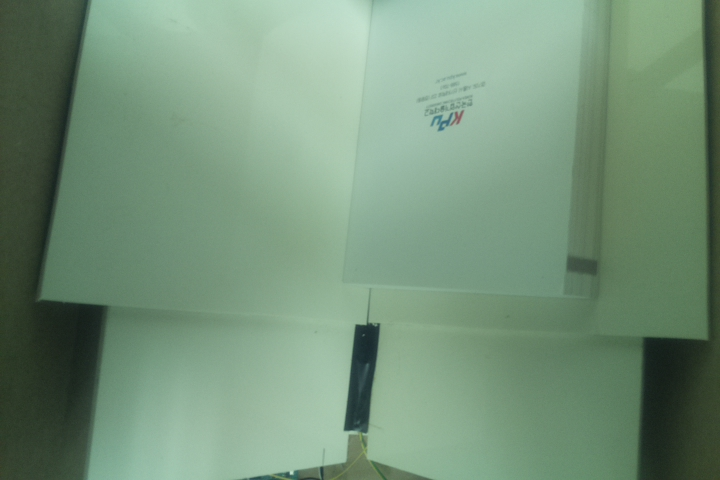book: (338, 1, 611, 303)
